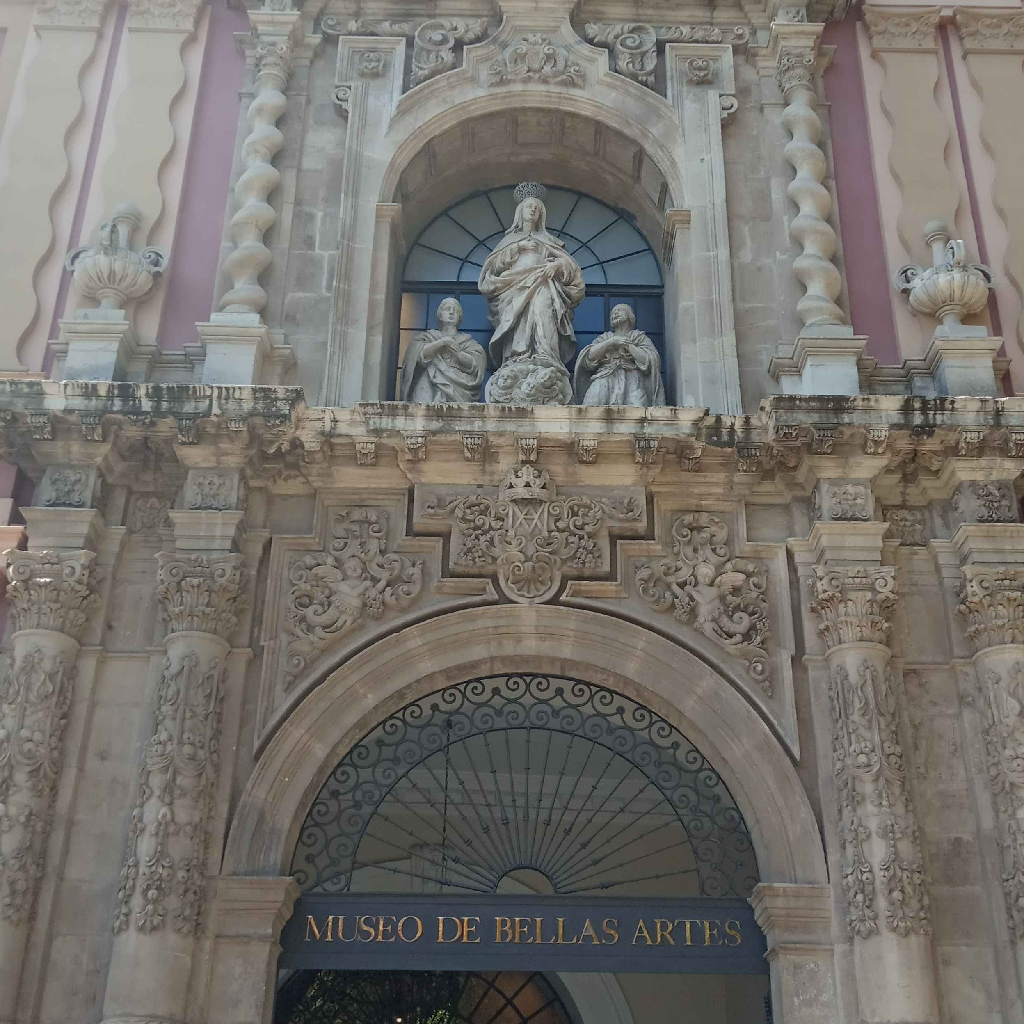arco-medio-punto: (246, 623, 794, 946), (367, 77, 700, 259)
columna-salomonica: (775, 51, 858, 338), (217, 58, 293, 331)
